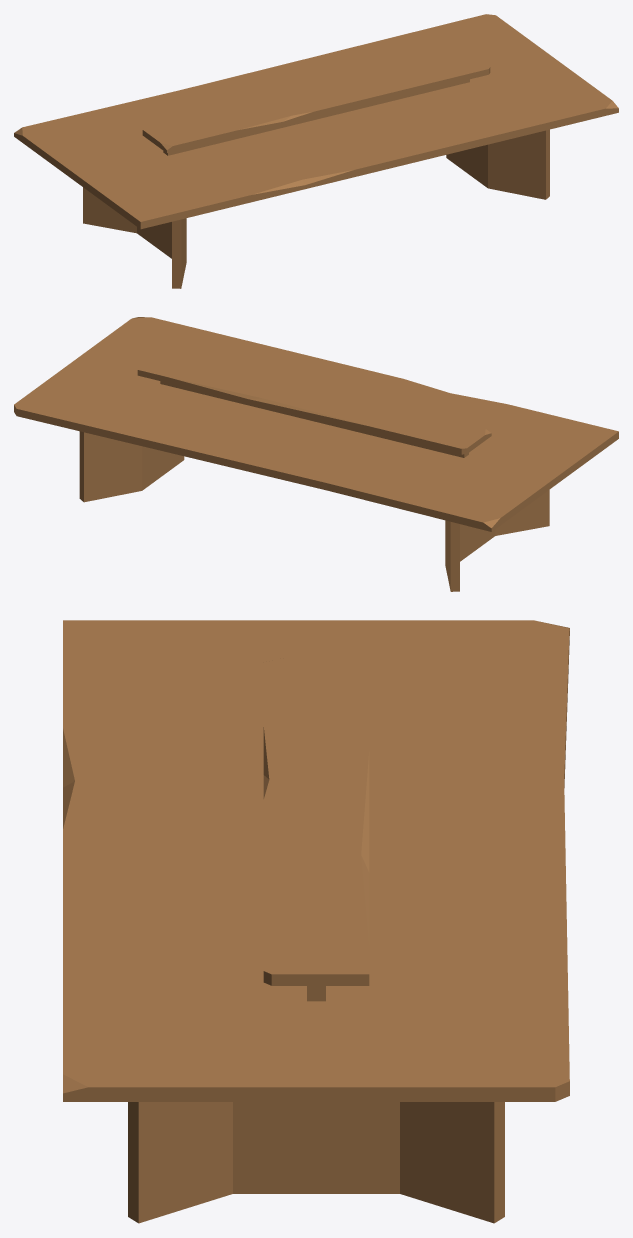
Rendered from Table_Conference_02.FBX.
The picture shows the model from 3 angles, top to bottom: view 1: azimuth 30°, elevation 25°; view 2: azimuth 150°, elevation 25°; view 3: azimuth 270°, elevation 25°; orthographic projection. The views are drawn at different scales.
Visible parts, largest first — view 1: SM_Prop_Table_Conference_03; view 2: SM_Prop_Table_Conference_03; view 3: SM_Prop_Table_Conference_03.
Boxes of the visible parts, x1=… form: SM_Prop_Table_Conference_03: x1=14, y1=14, x2=618, y2=288; SM_Prop_Table_Conference_03: x1=14, y1=317, x2=618, y2=591; SM_Prop_Table_Conference_03: x1=63, y1=620, x2=569, y2=1223.
Bounding box in the file's own units: 406 × 90.53 × 186.
